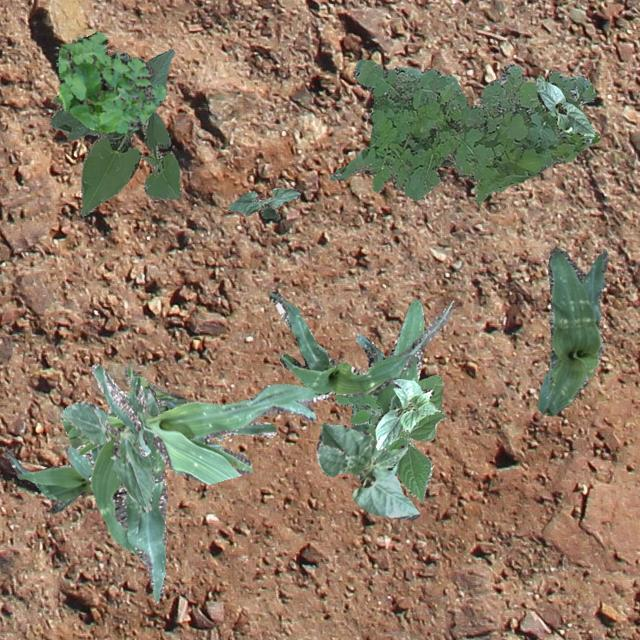crop: (61, 363, 276, 602), (90, 362, 328, 483), (48, 48, 180, 215), (268, 290, 450, 396), (60, 384, 158, 512), (352, 298, 423, 474), (536, 246, 608, 414), (364, 374, 446, 501), (316, 422, 418, 520), (5, 444, 90, 512), (374, 376, 438, 448), (534, 76, 594, 136), (226, 186, 300, 218)
weed: (328, 58, 598, 204), (56, 31, 166, 132), (332, 392, 380, 424)
